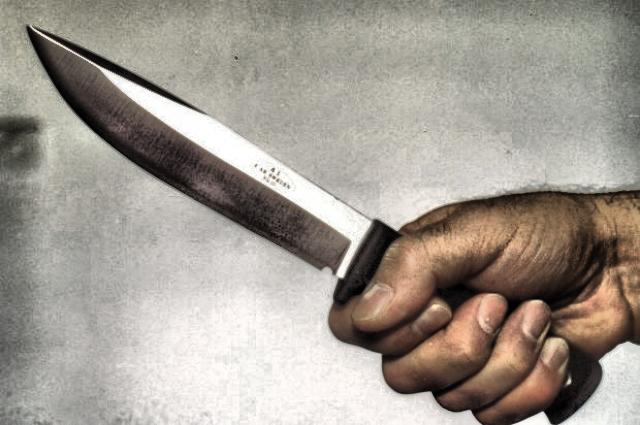knife: (21, 19, 606, 424)
